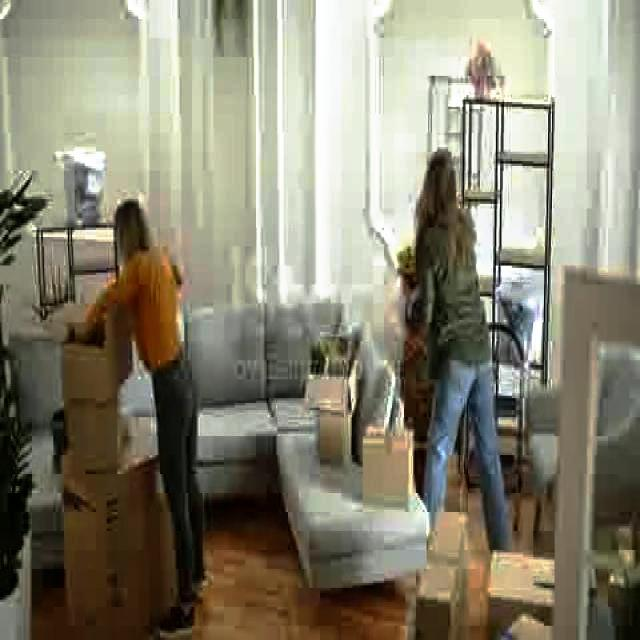Box: (64, 479, 162, 633), (423, 500, 476, 635), (484, 548, 562, 610), (358, 429, 416, 507), (60, 398, 119, 469), (306, 367, 354, 453), (60, 334, 121, 394)
